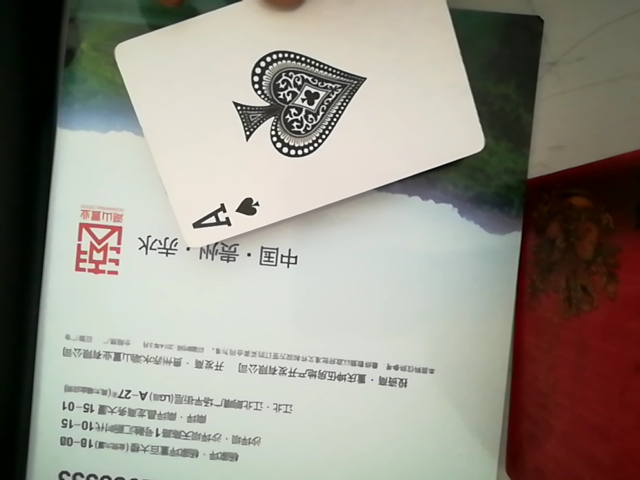ht a: (107, 1, 486, 258)
